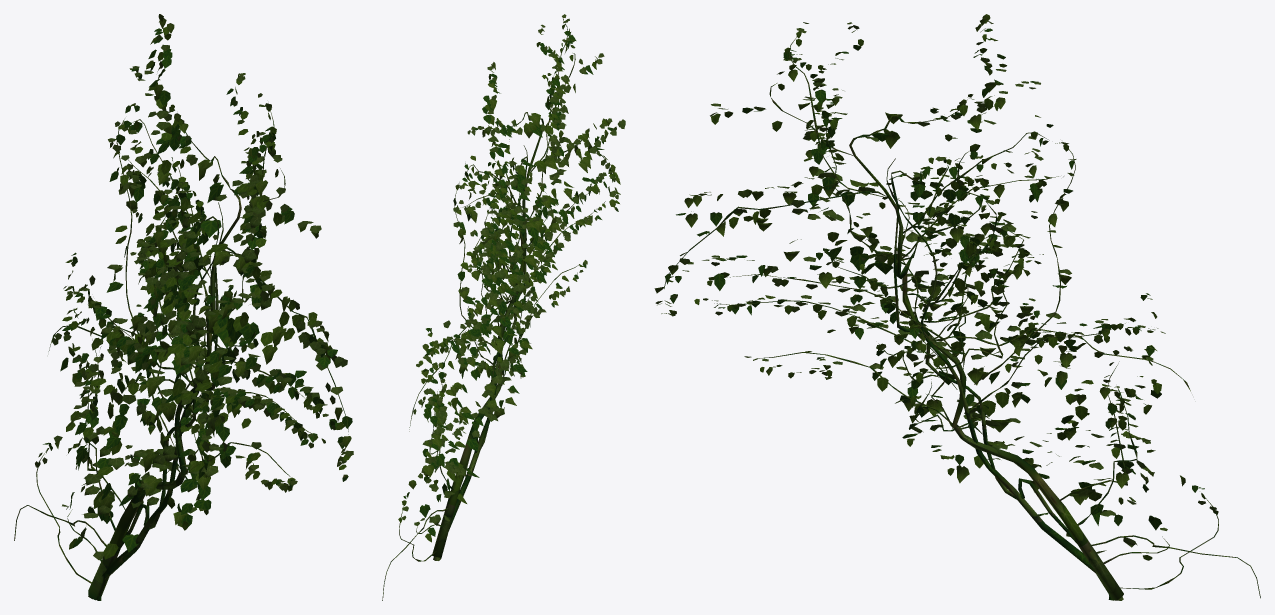
Rendered from SM_IvyBig2.fbx.
3 views of the same model, side by side, from view 1: azimuth 30°, elevation 25°; view 2: azimuth 150°, elevation 25°; view 3: azimuth 270°, elevation 25° (orthographic). The views are drawn at different scales.
Visible parts, largest first — view 1: SM_IvyBig2_LOD0; view 2: SM_IvyBig2_LOD0; view 3: SM_IvyBig2_LOD0.
Part boxes in pixels (left/top/right/bottom): SM_IvyBig2_LOD0: left=14, top=14, right=353, bottom=600; SM_IvyBig2_LOD0: left=382, top=14, right=625, bottom=600; SM_IvyBig2_LOD0: left=654, top=14, right=1260, bottom=600.
Size of the model in its own units: 19.17 by 310 by 329.
